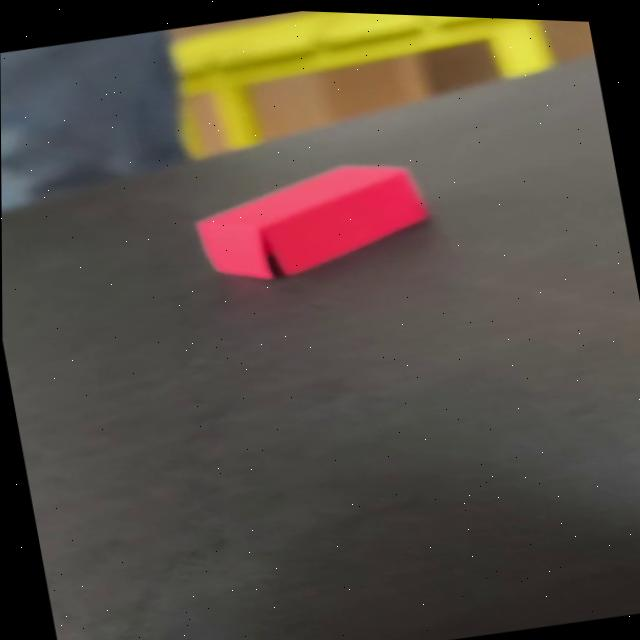red block: (184, 143, 436, 297)
